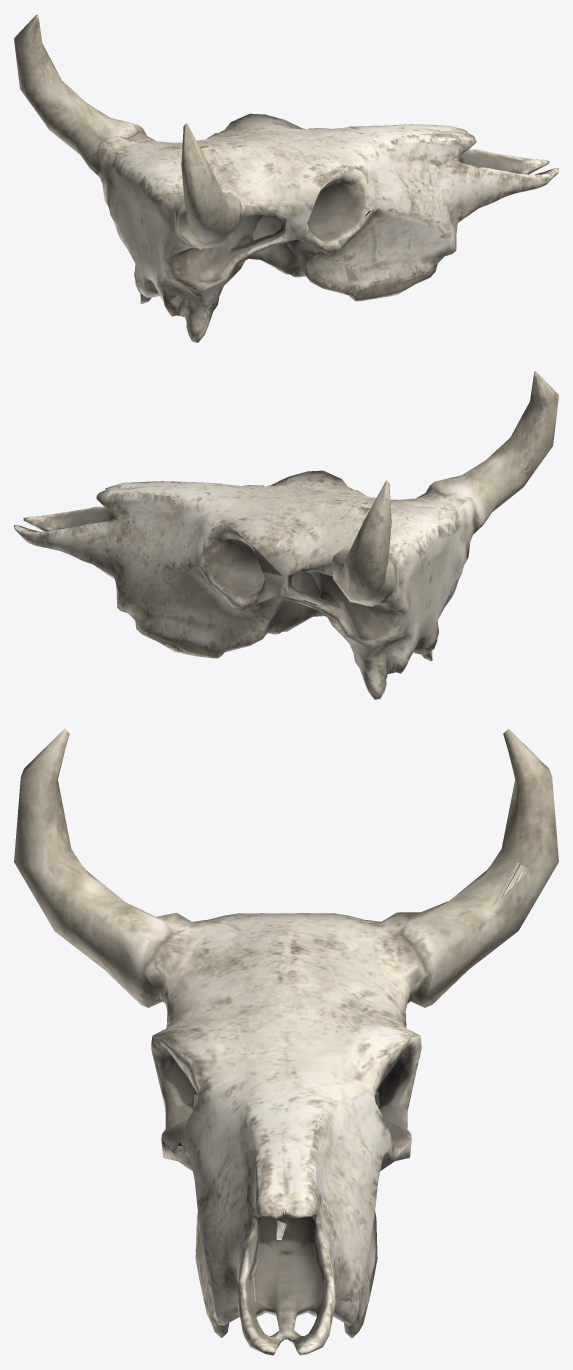
Rendered from fittings.glb.
3 views of the same model, one above another, from view 1: azimuth 30°, elevation 25°; view 2: azimuth 150°, elevation 25°; view 3: azimuth 270°, elevation 25° (orthographic). The views are drawn at different scales.
Parts seen in each view (by area): view 1: Cube_Material_0; view 2: Cube_Material_0; view 3: Cube_Material_0.
Boxes of the visible parts, x1,y1,x2,y2 form: Cube_Material_0: (14, 14, 558, 342); Cube_Material_0: (14, 371, 558, 699); Cube_Material_0: (14, 729, 558, 1355).
Bounding box in the file's own units: 0.6551 × 0.3751 × 0.4571.
1 material, 1 textured.
